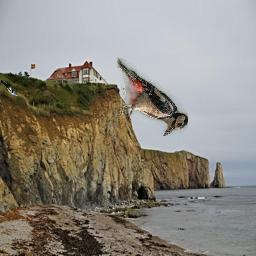Cuckoo: (0, 80, 18, 97)
Woodpecker: (118, 58, 189, 136)
